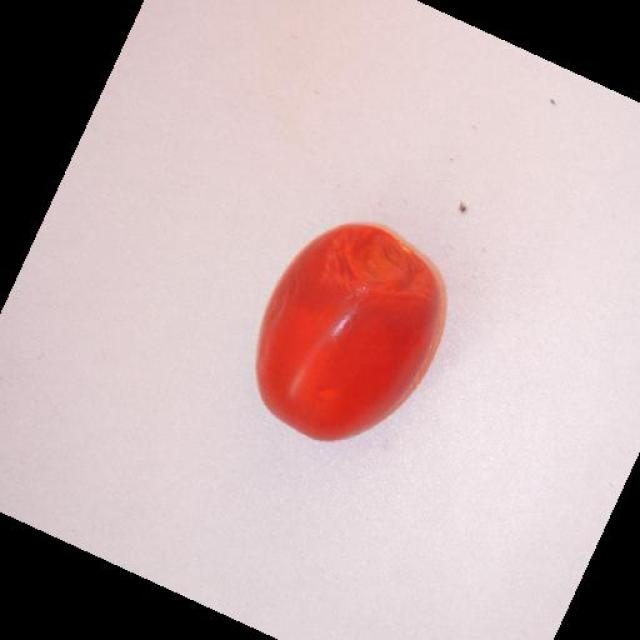Stale_tomato: (288, 189, 444, 326)
